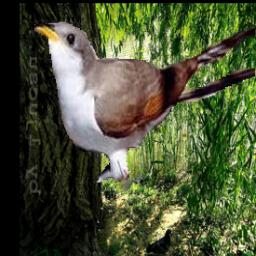Cuckoo: (34, 21, 255, 183)
